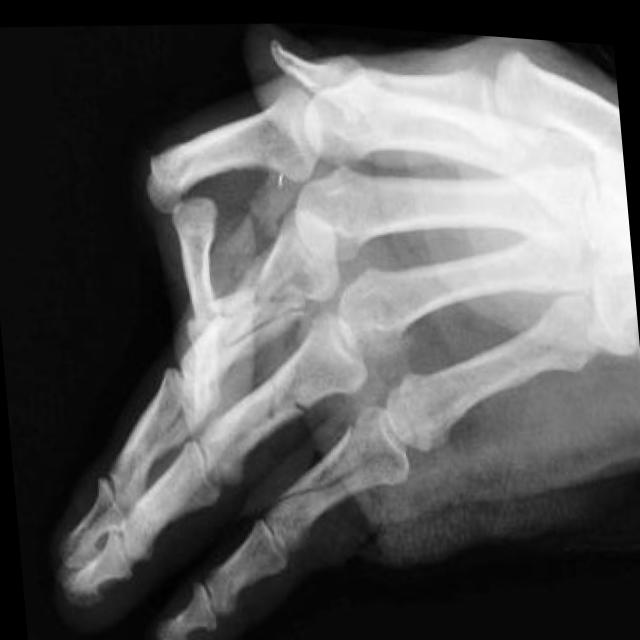fracture: (268, 440, 412, 521), (128, 161, 230, 255), (210, 278, 310, 365)
